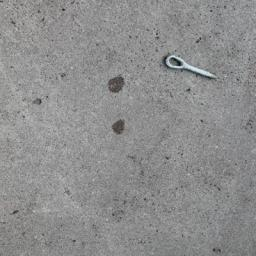FOD: (163, 52, 221, 87)
